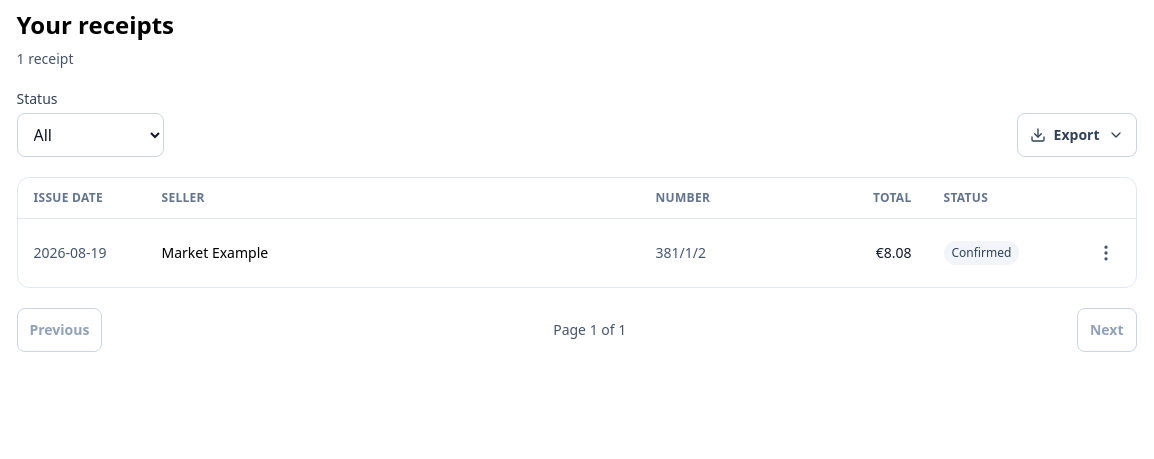
HistoryPage › reports a single-receipt download failure
The width and height of the screenshot is (1154, 459).
Click the button named "Actions for Market Example".
click(1106, 253)  # box [1084, 231, 1128, 275]
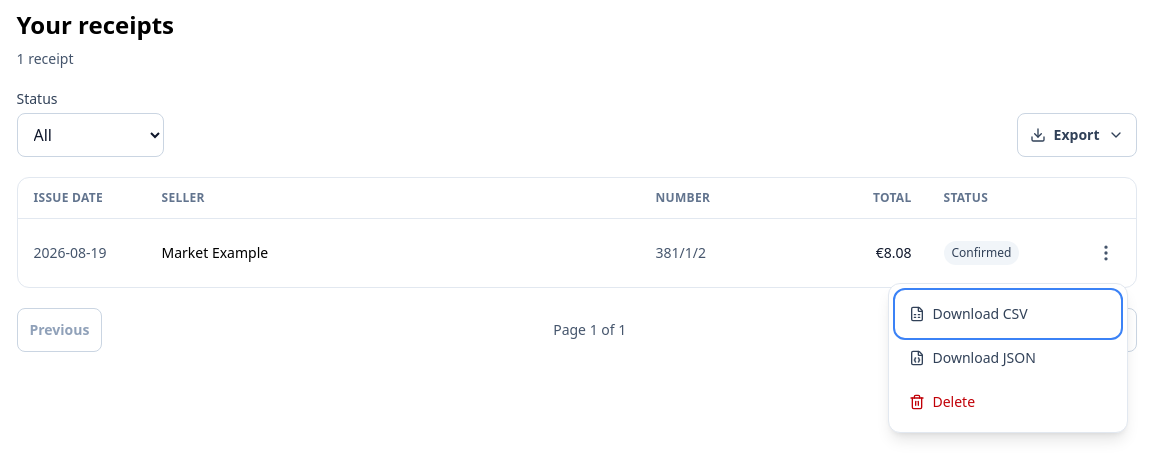
Click the button "Download CSV".
click(1008, 314)  # box [896, 292, 1118, 336]
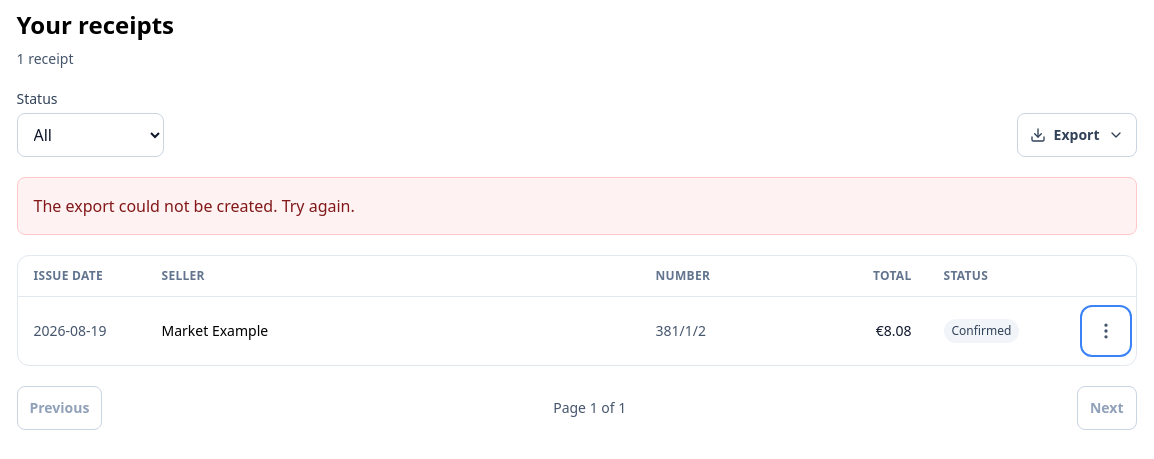
Now the text "The export could not be created. Try again." is shown, box [34, 195, 355, 217]
